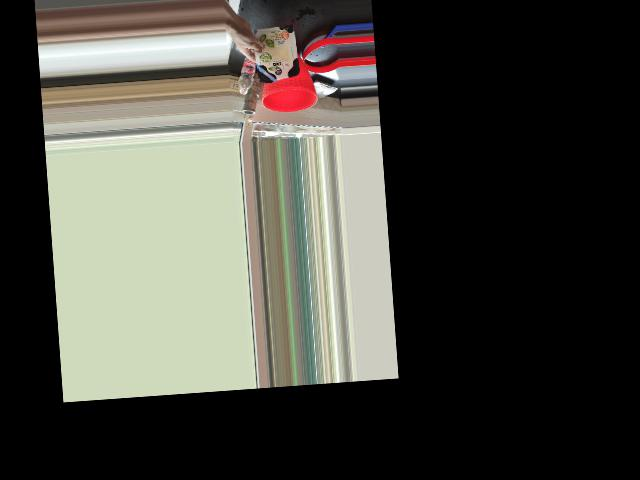cheese: (242, 29, 300, 85)
